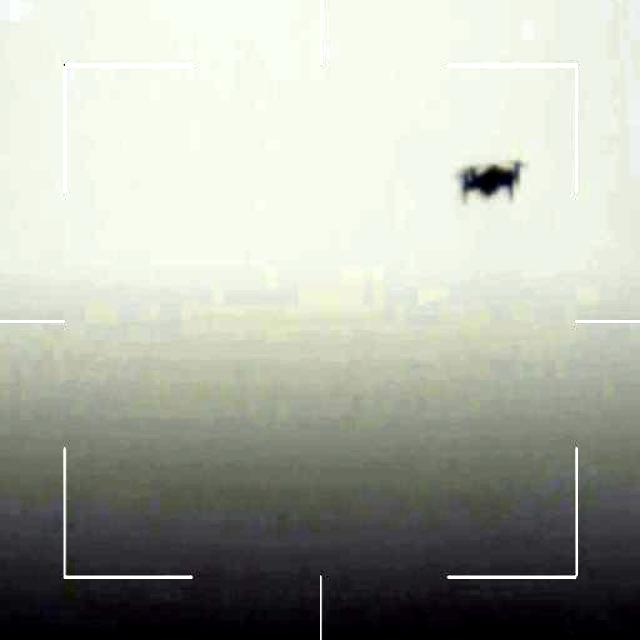bird: (456, 154, 525, 206)
